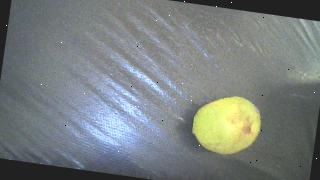DESECHO: (189, 92, 264, 159)
